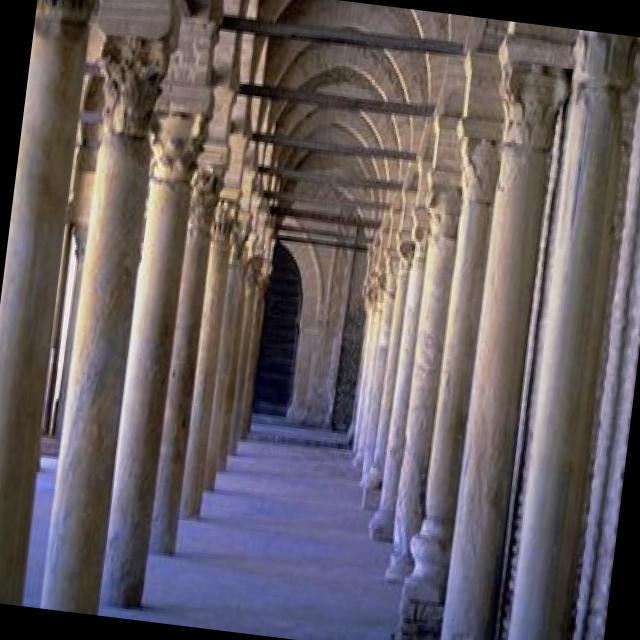beam: (221, 11, 463, 53), (239, 81, 434, 112), (255, 128, 418, 158), (261, 162, 403, 186)
column occluded: (43, 0, 184, 613), (440, 31, 576, 640), (509, 29, 640, 640), (101, 14, 222, 606), (397, 49, 506, 640), (149, 80, 237, 552), (387, 110, 465, 585), (182, 123, 246, 516)
columns: (349, 151, 434, 541), (204, 148, 277, 488)
door opening: (254, 239, 304, 409)
floor -X: (43, 436, 405, 640)
steps: (250, 408, 352, 444)
vault: (175, 0, 577, 241)
wall clock: (492, 29, 640, 640), (42, 14, 107, 452), (275, 177, 369, 430)
